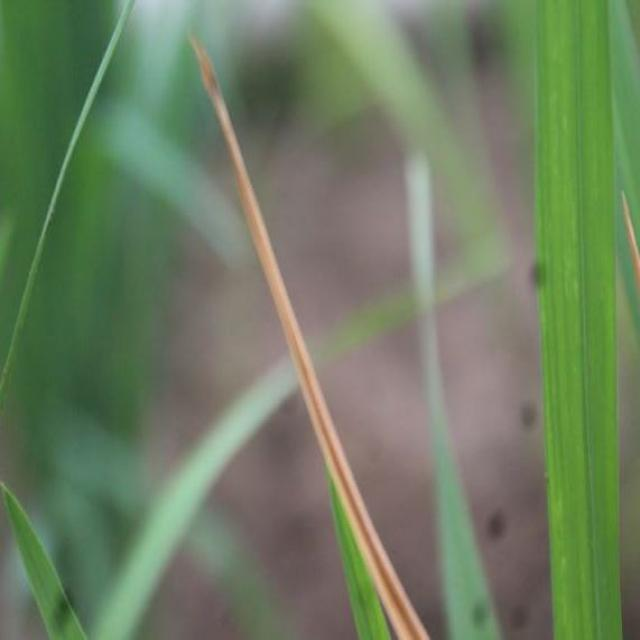Tungro: (191, 21, 455, 640)
